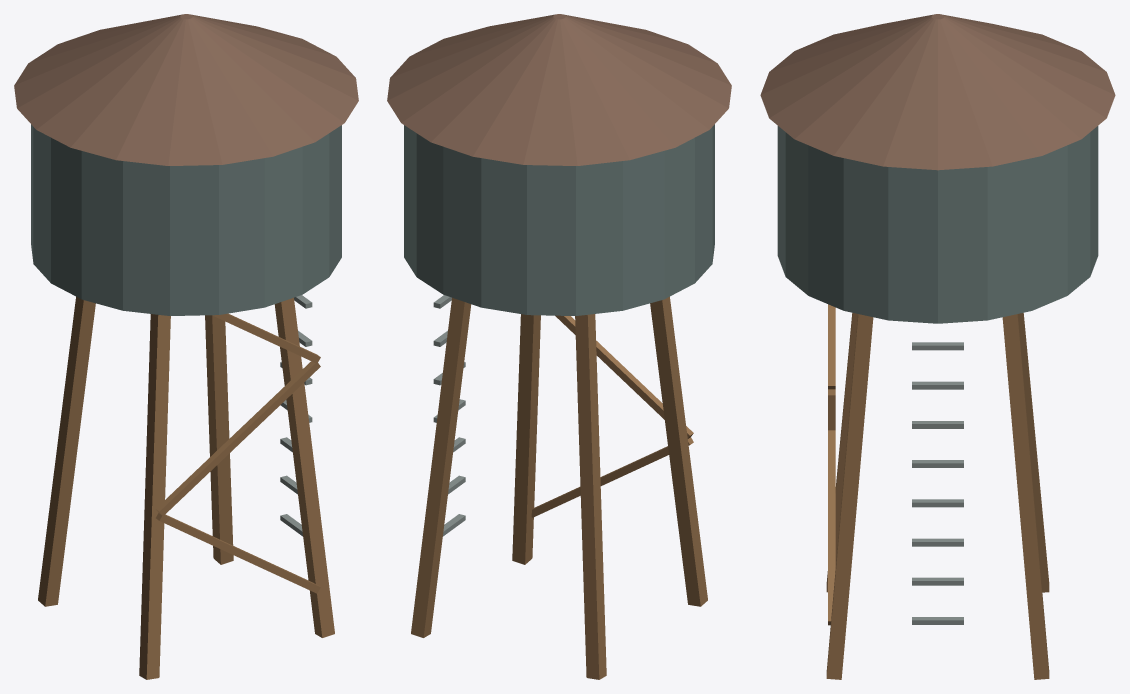
Rendered from arizona-water-tower_lod0.glb.
3 renders of one model, left to right at view 1: azimuth 30°, elevation 25°; view 2: azimuth 150°, elevation 25°; view 3: azimuth 270°, elevation 25°, orthographic. The views are drawn at different scales.
Parts seen in each view (by area): view 1: RF_AZ_Tower_Tank, RF_AZ_Tower_Roof, RF_AZ_Tower_Leg, RF_AZ_Tower_Leg.001, RF_AZ_Tower_Leg.002, RF_AZ_Tower_Leg.003, RF_AZ_Tower_Brace.001, RF_AZ_Tower_Brace, RF_AZ_Tower_Brace.002; view 2: RF_AZ_Tower_Tank, RF_AZ_Tower_Roof, RF_AZ_Tower_Leg.001, RF_AZ_Tower_Leg.003, RF_AZ_Tower_Leg, RF_AZ_Tower_Leg.002, RF_AZ_Tower_Brace.001, RF_AZ_Tower_Brace; view 3: RF_AZ_Tower_Tank, RF_AZ_Tower_Roof, RF_AZ_Tower_Leg.002, RF_AZ_Tower_Leg.003, RF_AZ_Tower_Leg.001, RF_AZ_Tower_Leg, RF_AZ_Tower_Brace, RF_AZ_Tower_Brace.002.
Boxes of the visible parts, left/top/right/bottom form: RF_AZ_Tower_Tank: left=31, top=124, right=341, bottom=315; RF_AZ_Tower_Roof: left=14, top=14, right=358, bottom=165; RF_AZ_Tower_Leg: left=139, top=314, right=170, bottom=679; RF_AZ_Tower_Leg.001: left=38, top=296, right=95, bottom=606; RF_AZ_Tower_Leg.002: left=274, top=297, right=334, bottom=637; RF_AZ_Tower_Leg.003: left=205, top=315, right=233, bottom=564; RF_AZ_Tower_Brace.001: left=156, top=361, right=320, bottom=515; RF_AZ_Tower_Brace: left=156, top=513, right=320, bottom=593; RF_AZ_Tower_Brace.002: left=212, top=313, right=320, bottom=363; RF_AZ_Tower_Tank: left=404, top=124, right=714, bottom=315; RF_AZ_Tower_Roof: left=387, top=14, right=731, bottom=165; RF_AZ_Tower_Leg.001: left=575, top=314, right=606, bottom=679; RF_AZ_Tower_Leg.003: left=411, top=297, right=471, bottom=637; RF_AZ_Tower_Leg: left=650, top=296, right=707, bottom=606; RF_AZ_Tower_Leg.002: left=512, top=314, right=540, bottom=564; RF_AZ_Tower_Brace.001: left=555, top=315, right=693, bottom=438; RF_AZ_Tower_Brace: left=531, top=437, right=693, bottom=517; RF_AZ_Tower_Tank: left=777, top=126, right=1098, bottom=323; RF_AZ_Tower_Roof: left=760, top=14, right=1115, bottom=170; RF_AZ_Tower_Leg.002: left=826, top=314, right=873, bottom=679; RF_AZ_Tower_Leg.003: left=1002, top=314, right=1049, bottom=679; RF_AZ_Tower_Leg.001: left=1018, top=313, right=1049, bottom=592; RF_AZ_Tower_Leg: left=826, top=313, right=857, bottom=592; RF_AZ_Tower_Brace: left=828, top=430, right=835, bottom=625; RF_AZ_Tower_Brace.002: left=828, top=304, right=835, bottom=389.
Size of the model in its own units: 8.2 by 15.73 by 8.2.
